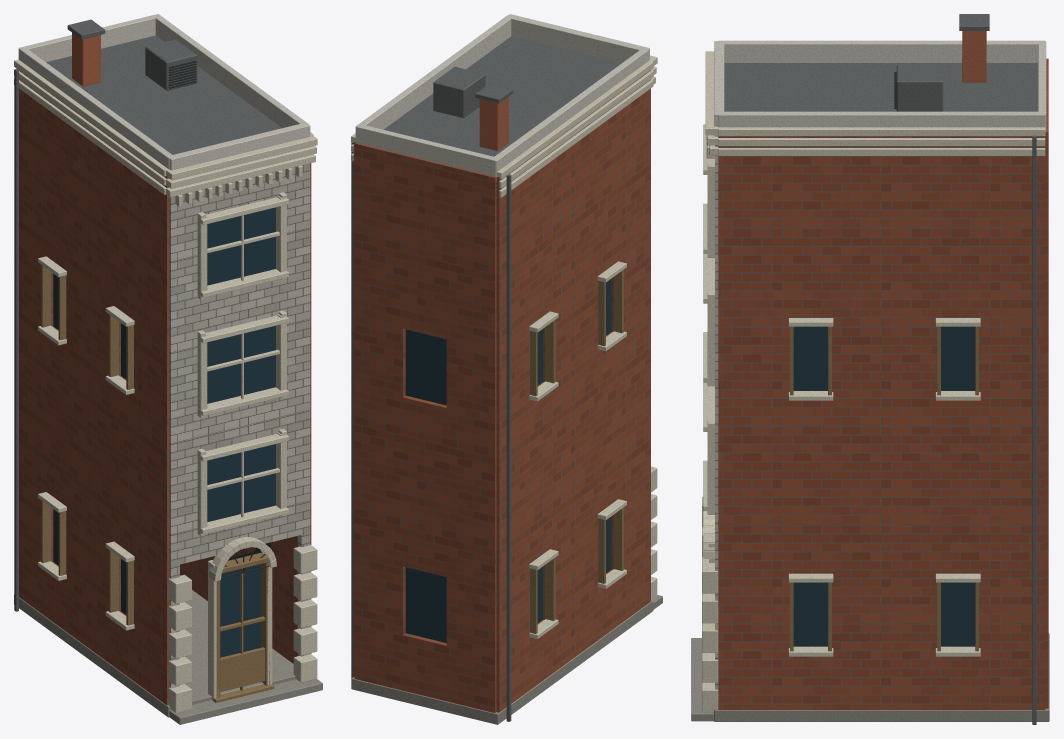
File: OFFC18_lod1.glb
3 renders of one model, left to right at view 1: azimuth 30°, elevation 25°; view 2: azimuth 150°, elevation 25°; view 3: azimuth 270°, elevation 25°, orthographic. The views are drawn at different scales.
Visible parts, largest first — view 1: OFFC18_LOD1; view 2: OFFC18_LOD1; view 3: OFFC18_LOD1.
Boxes of the visible parts, bbox=[...] form: OFFC18_LOD1: bbox=[14, 14, 322, 724]; OFFC18_LOD1: bbox=[351, 14, 662, 724]; OFFC18_LOD1: bbox=[691, 14, 1049, 724].
Bounding box in the file's own units: 3.71 × 13.05 × 6.57.
Materials: 11 (9 with a texture image).
